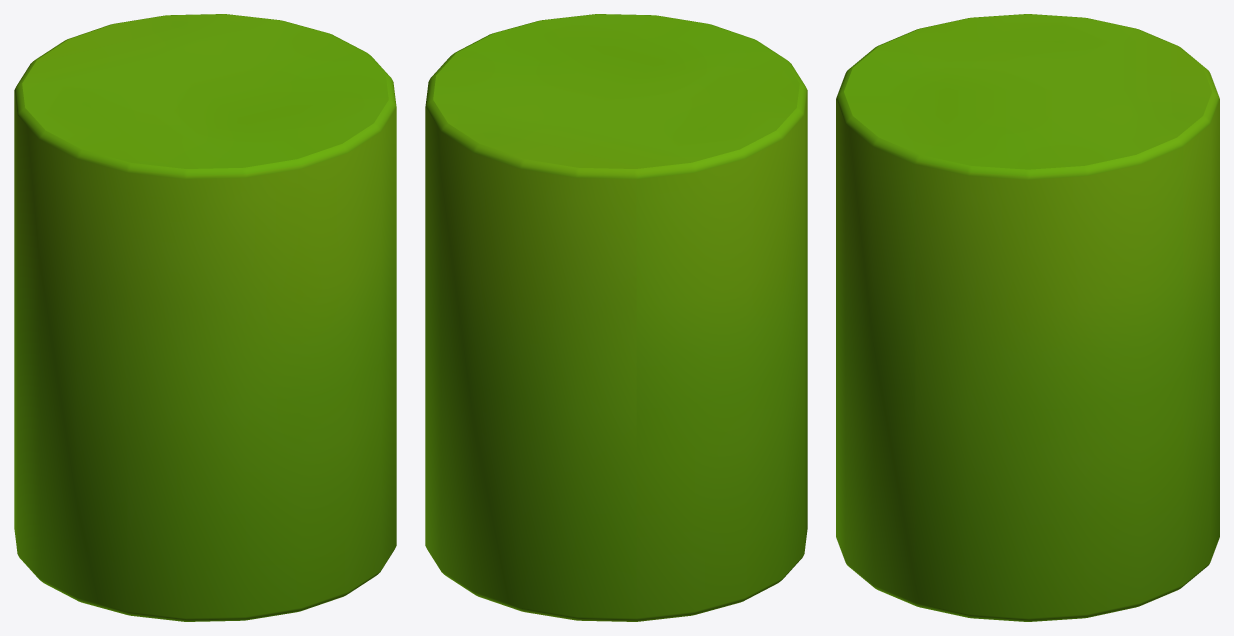
Rendered from CylinderGreen.fbx.
3 views of the same model, side by side, from view 1: azimuth 30°, elevation 25°; view 2: azimuth 150°, elevation 25°; view 3: azimuth 270°, elevation 25° (orthographic).
Visible parts, largest first — view 1: Cylinder; view 2: Cylinder; view 3: Cylinder.
Part boxes in pixels (x1,y1,x2,y2): Cylinder: (14,14,396,621); Cylinder: (425,14,807,621); Cylinder: (836,14,1219,621).
Bounding box in the file's own units: 2 × 2.6 × 2.
